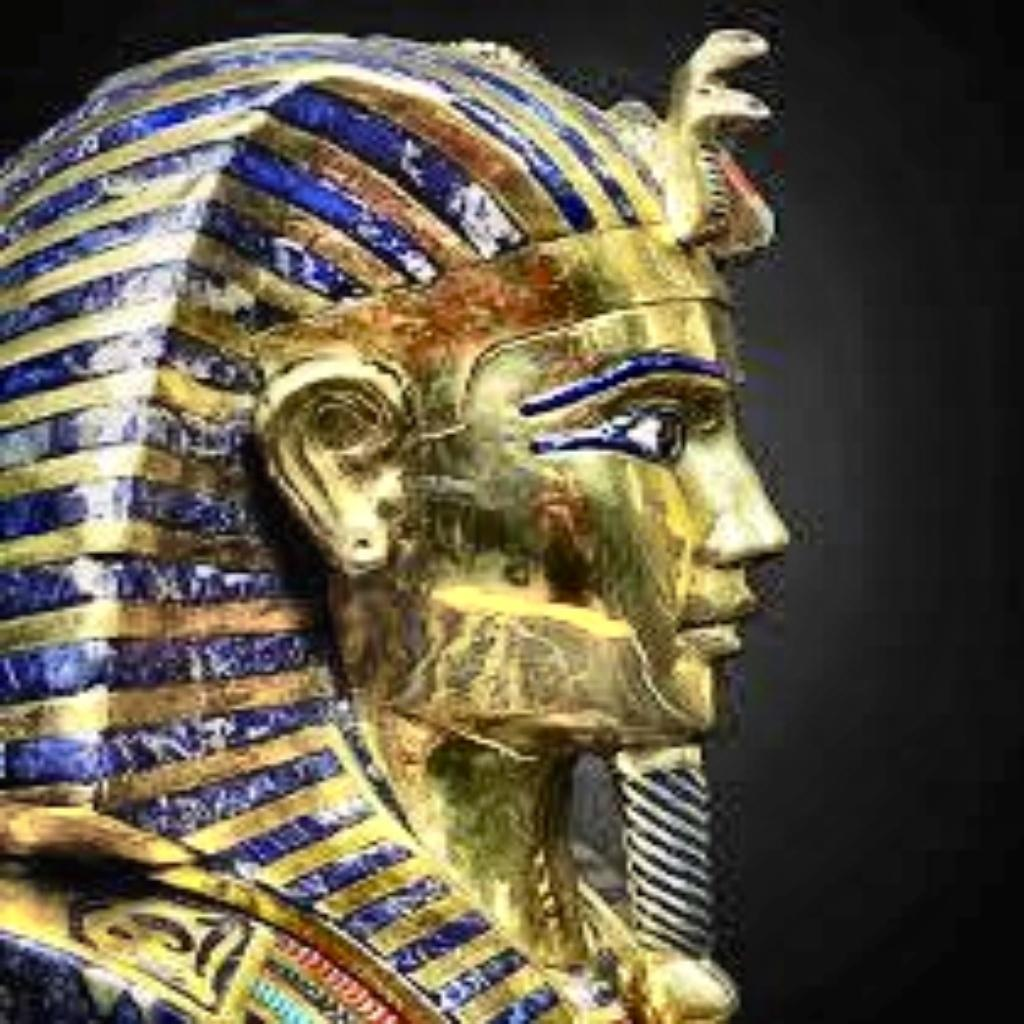Mask of Tutankhamun: (0, 21, 799, 1020)
